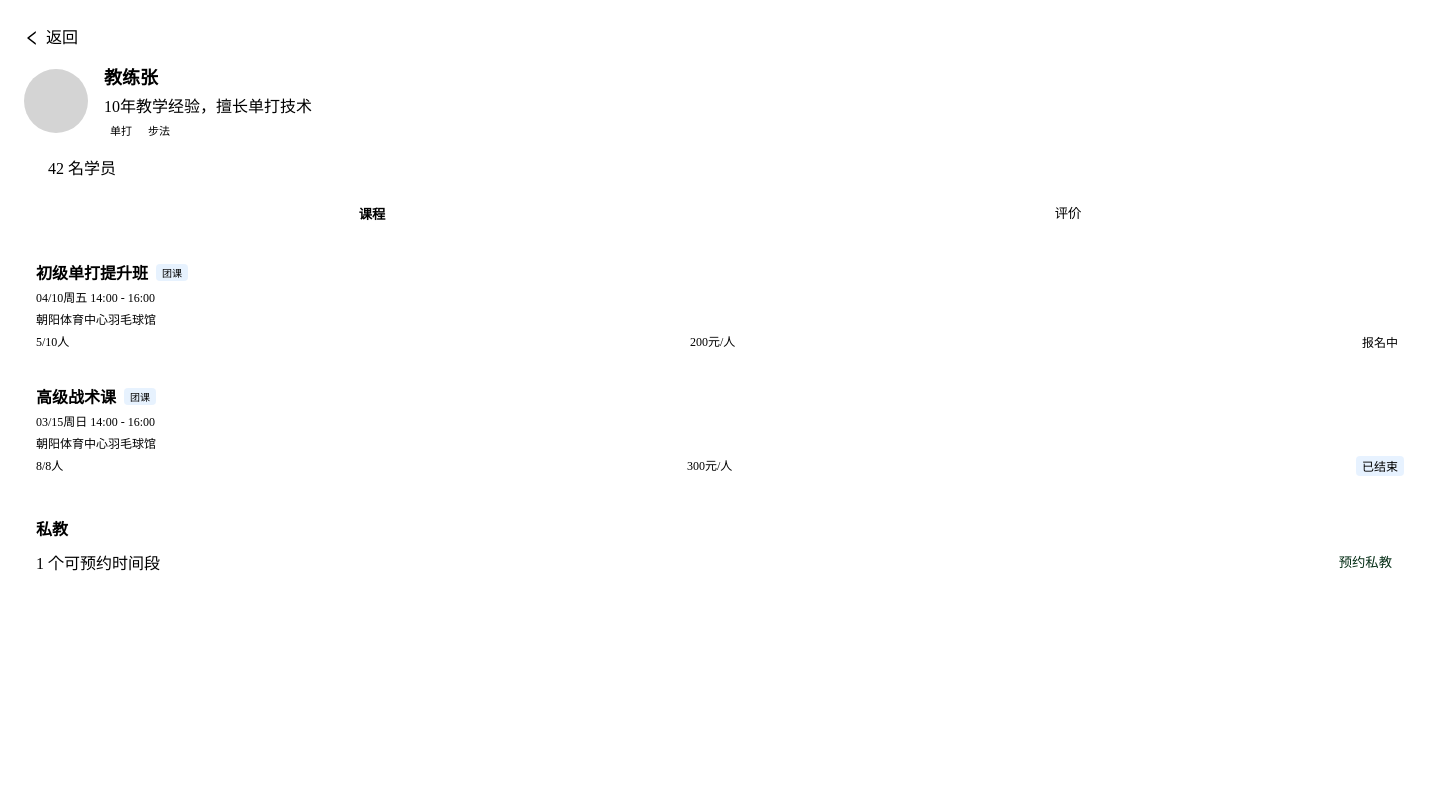
Test: CoachProfilePage › should open review modal when write review button is clicked
# Switch to reviews tab first (写评价 button is only in reviews tab)
Click the button "评价". click: (1068, 214)
box: [720,195,1416,232]
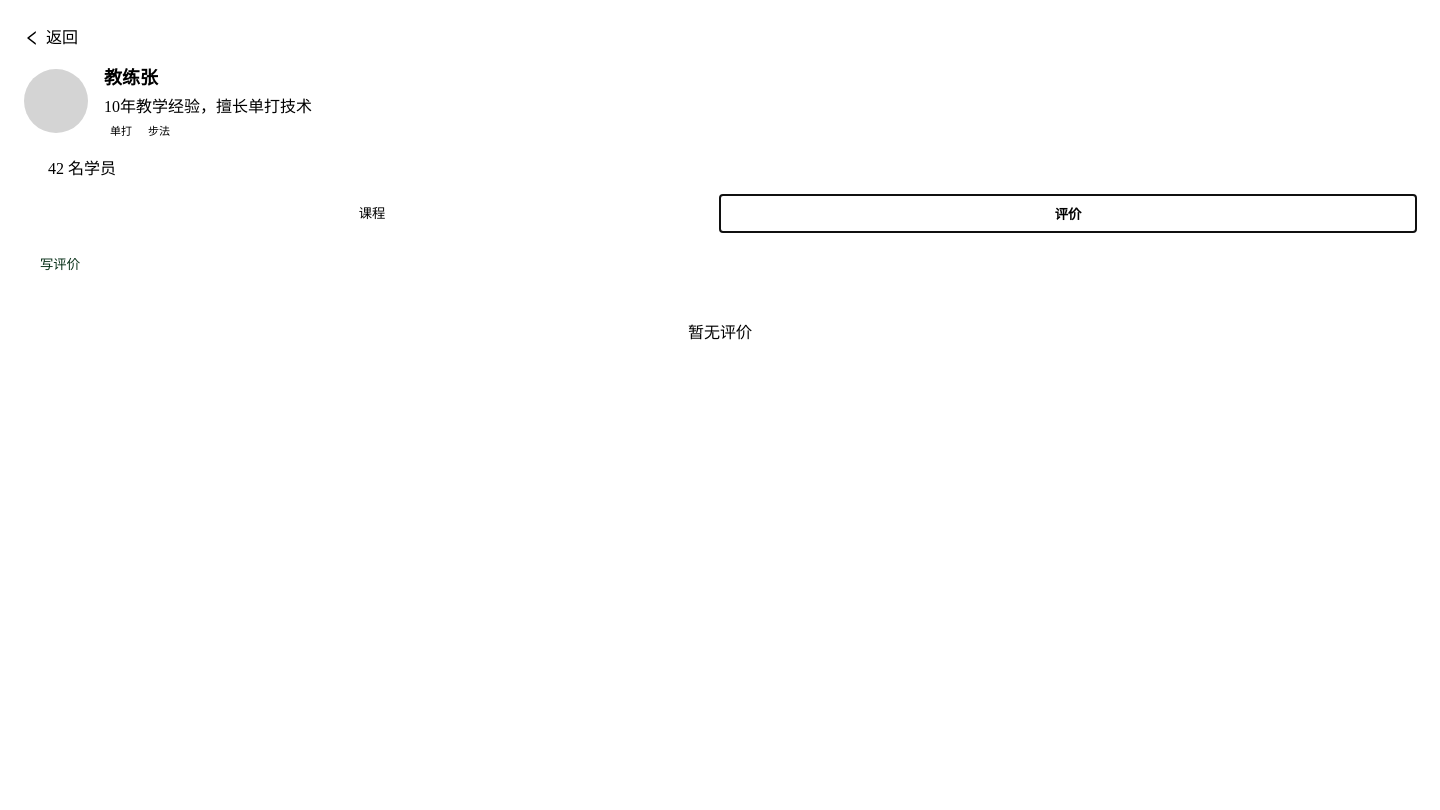
Click the button "写评价". click: (60, 264)
box: [24,248,96,279]
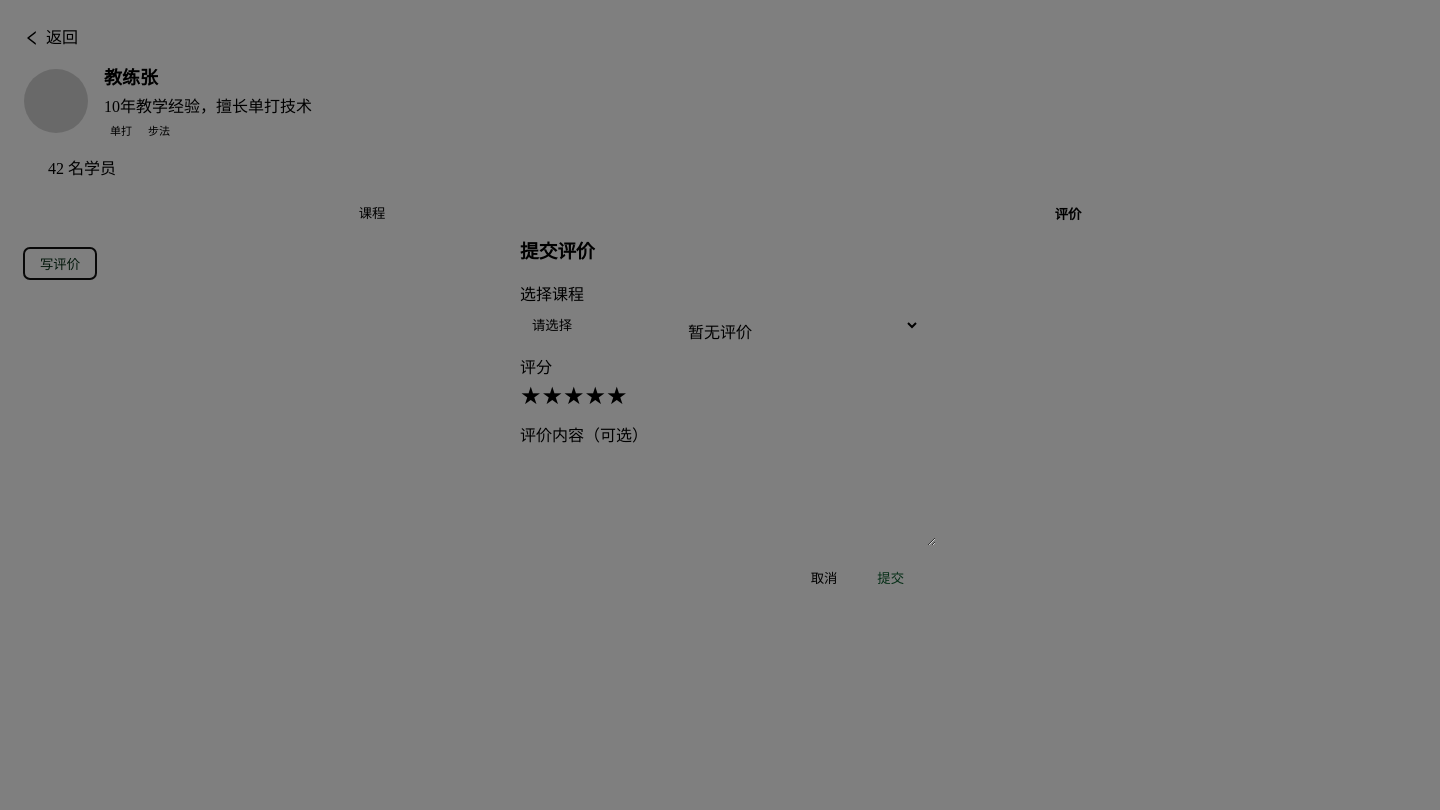
Now the text "选择课程" is shown, box [520,286,584,303]
Now the text "评分" is shown, box [520,359,552,376]
